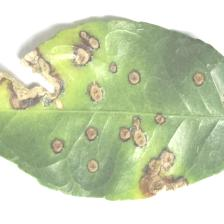canker: (2, 27, 207, 201)
